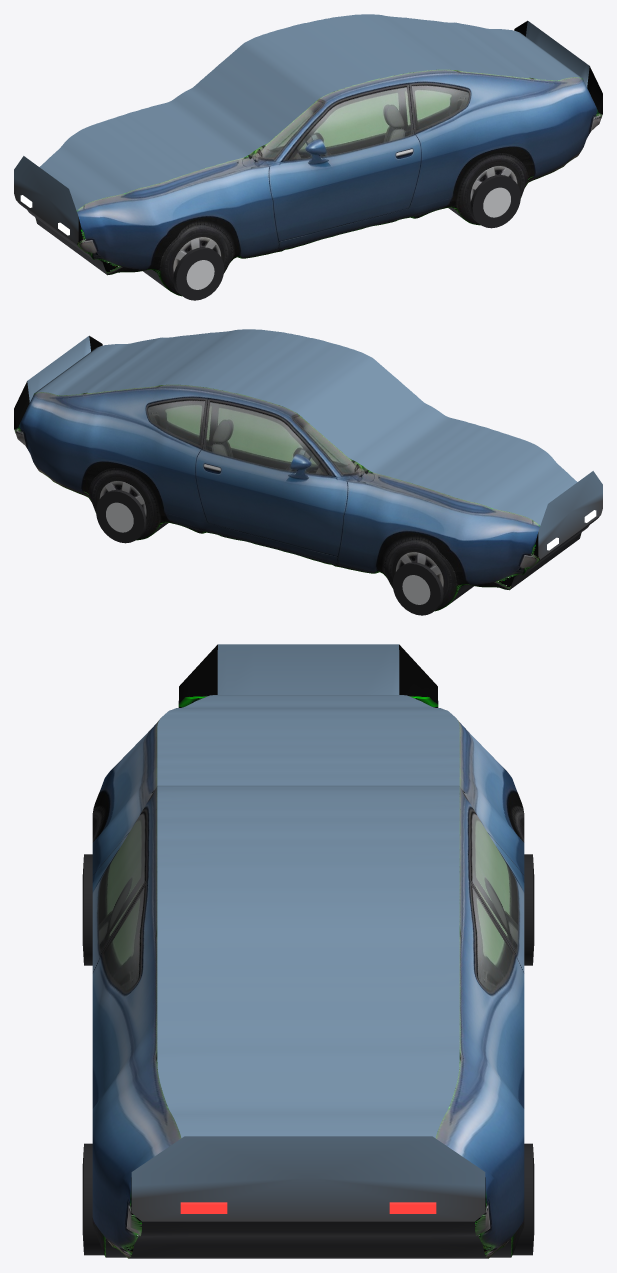
File: coupe.glb
The picture shows the model from 3 angles, top to bottom: view 1: azimuth 30°, elevation 25°; view 2: azimuth 150°, elevation 25°; view 3: azimuth 270°, elevation 25°; orthographic projection. The views are drawn at different scales.
Visible parts, largest first — view 1: coupe; view 2: coupe; view 3: coupe.
Boxes of the visible parts, bbox=[...] form: coupe: bbox=[14, 14, 602, 300]; coupe: bbox=[14, 329, 602, 615]; coupe: bbox=[82, 644, 534, 1258].
Bounding box in the file's own units: 3.43 × 1.01 × 1.3.
8 materials, 2 textured.
